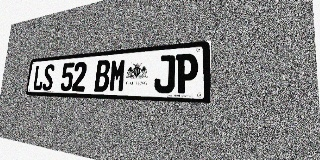2: (72, 61, 87, 91)
5: (60, 62, 75, 91)
B: (94, 60, 111, 92)
J: (154, 55, 175, 93)
L: (32, 65, 45, 91)
M: (109, 58, 127, 92)
P: (175, 53, 198, 94)
S: (42, 64, 55, 91)
